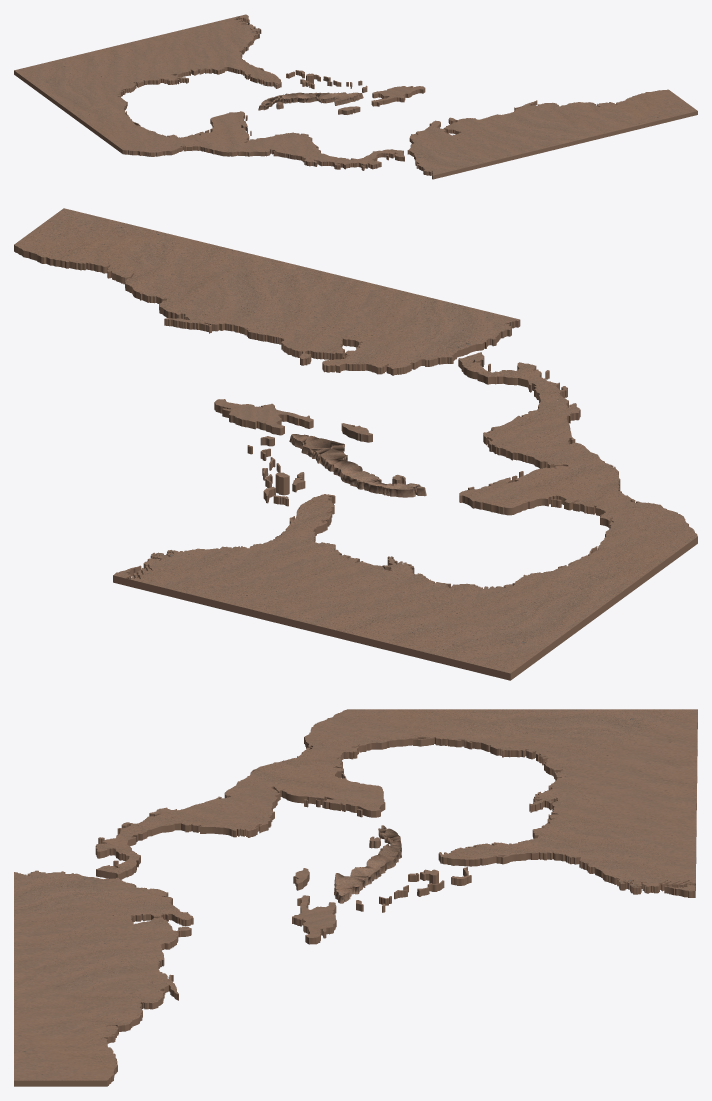
Rendered from LandMasses.obj.
3 views of the same model, one above another, from view 1: azimuth 30°, elevation 25°; view 2: azimuth 150°, elevation 25°; view 3: azimuth 270°, elevation 25° (orthographic). The views are drawn at different scales.
Visible parts, largest first — view 1: Landmasses; view 2: Landmasses; view 3: Landmasses.
Part boxes in pixels (bbox=[...]): Landmasses: bbox=[14, 14, 697, 179]; Landmasses: bbox=[14, 208, 697, 680]; Landmasses: bbox=[14, 709, 697, 1086].
Size of the model in its own units: 92.72 by 1.94 by 72.28.
1 material, 1 textured.
